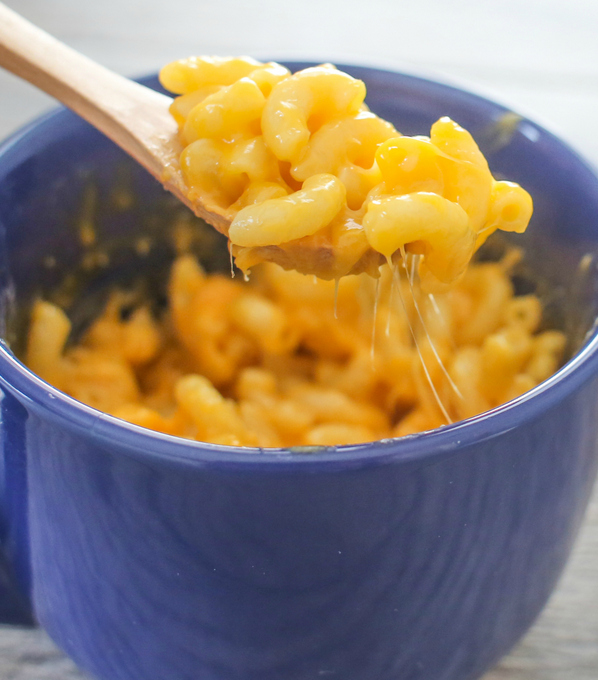macncheese: (13, 49, 589, 455)
